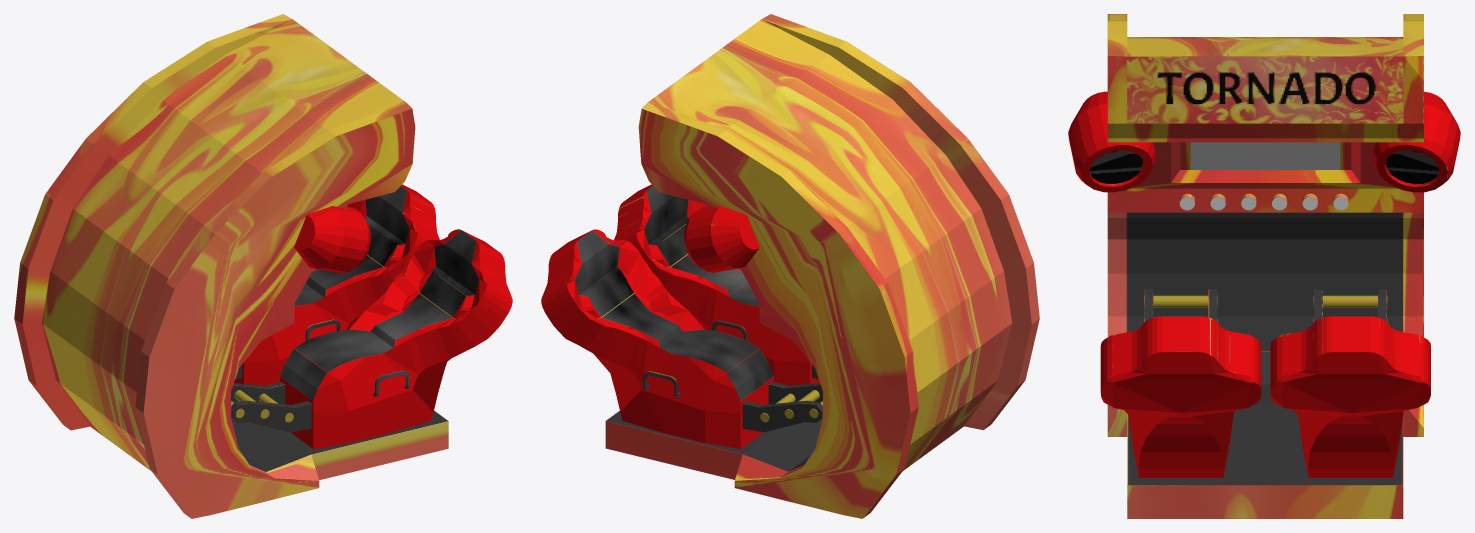
File: typhoon-arcade.fbx
3 renders of one model, left to right at view 1: azimuth 30°, elevation 25°; view 2: azimuth 150°, elevation 25°; view 3: azimuth 270°, elevation 25°, orthographic. The views are drawn at different scales.
Parts seen in each view (by area): view 1: Cylinder.006; view 2: Cylinder.006; view 3: Cylinder.006, pantalla_typhoon.
Part boxes in pixels (x1=…): Cylinder.006: x1=14, y1=14, x2=512, y2=518; Cylinder.006: x1=541, y1=14, x2=1039, y2=518; Cylinder.006: x1=1068, y1=14, x2=1460, y2=518; pantalla_typhoon: x1=1190, y1=142, x2=1340, y2=169.
Size of the model in its own units: 244 by 219 by 178.
